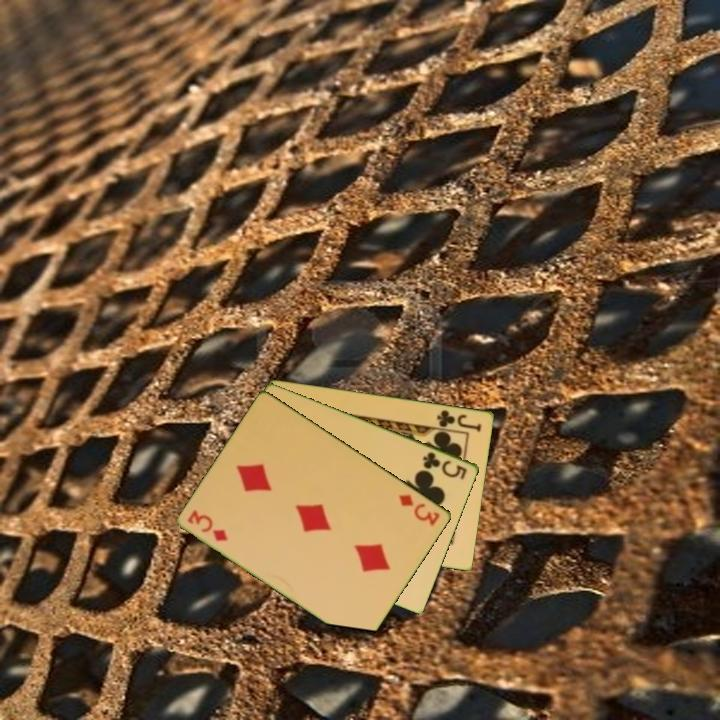3d: (395, 490, 443, 529), (184, 506, 231, 544)
5c: (419, 448, 470, 482)
Jc: (433, 406, 485, 435)
